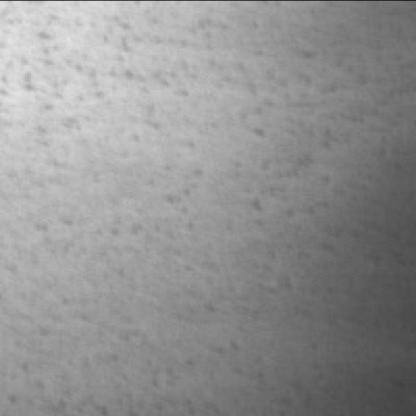pitted_surface: (21, 17, 366, 129), (218, 112, 337, 391), (42, 144, 202, 270), (8, 328, 240, 408)
